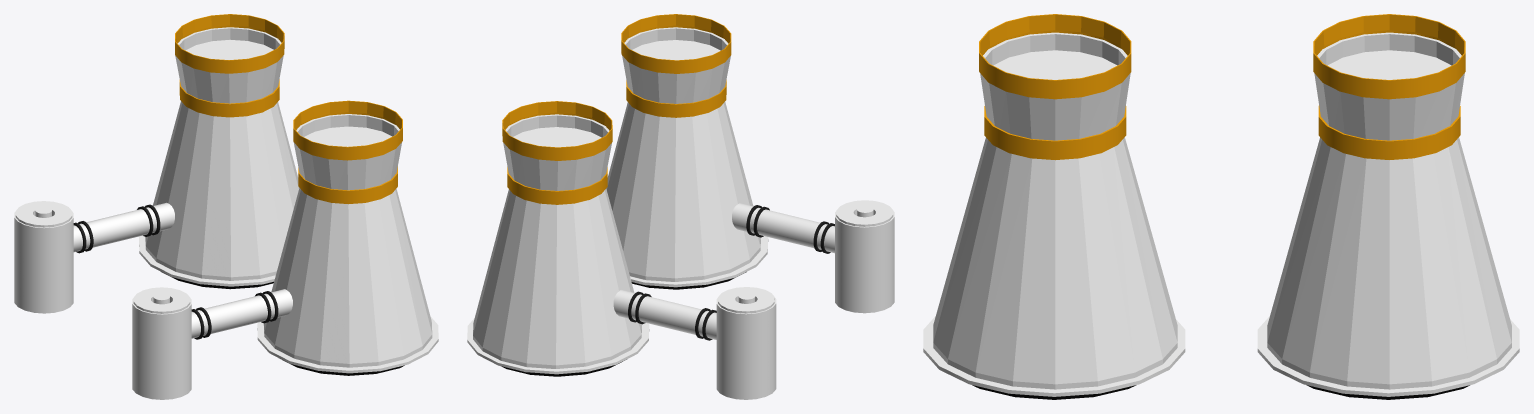
File: Atom Plant 4.FBX
3 views of the same model, side by side, from view 1: azimuth 30°, elevation 25°; view 2: azimuth 150°, elevation 25°; view 3: azimuth 270°, elevation 25° (orthographic). The views are drawn at different scales.
Visible parts, largest first — view 1: Cylinder018; view 2: Cylinder018; view 3: Cylinder018.
Boxes of the visible parts, x1,y1,x2,y2 form: Cylinder018: (14,14,438,399); Cylinder018: (467,14,894,399); Cylinder018: (923,14,1519,399).
Size of the model in its own units: 82.06 by 58.4 by 103.
